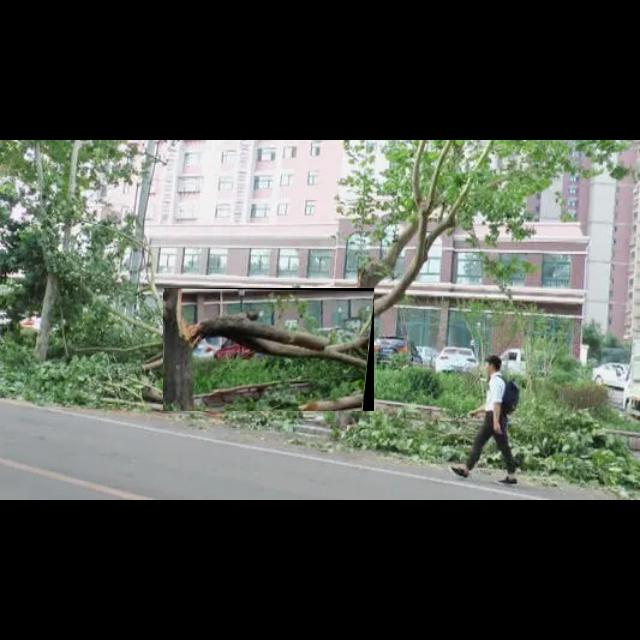Fallen Tree: (163, 288, 375, 412)
